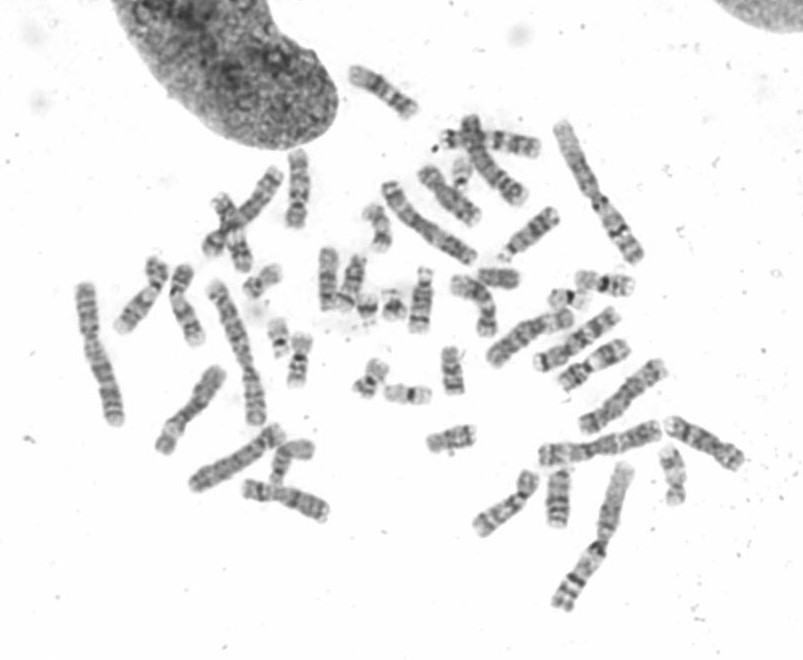chromosomes: (549, 113, 648, 269), (547, 459, 640, 617), (380, 177, 484, 269), (207, 277, 270, 428), (195, 164, 287, 264), (72, 280, 128, 431), (147, 362, 234, 459), (577, 355, 674, 437), (181, 421, 288, 493), (527, 303, 626, 378), (457, 109, 533, 206), (537, 411, 662, 467), (483, 307, 579, 373), (108, 249, 167, 343), (466, 468, 541, 540), (665, 415, 748, 476), (415, 160, 486, 231), (346, 61, 421, 125), (554, 334, 634, 394), (495, 200, 570, 263), (240, 475, 333, 524), (436, 123, 545, 162), (208, 189, 255, 275), (167, 261, 206, 352), (450, 273, 501, 342), (402, 265, 440, 339), (282, 147, 315, 232), (267, 435, 318, 487), (544, 460, 578, 532), (573, 268, 641, 303), (335, 250, 371, 316), (353, 356, 398, 405), (425, 422, 483, 458), (657, 445, 689, 507), (378, 374, 436, 408), (439, 342, 473, 399), (286, 329, 316, 390), (362, 202, 394, 255), (240, 265, 284, 302), (318, 245, 340, 314), (477, 265, 524, 294), (267, 313, 293, 360), (451, 154, 475, 201), (381, 286, 410, 324), (359, 285, 382, 331), (548, 285, 590, 306)
